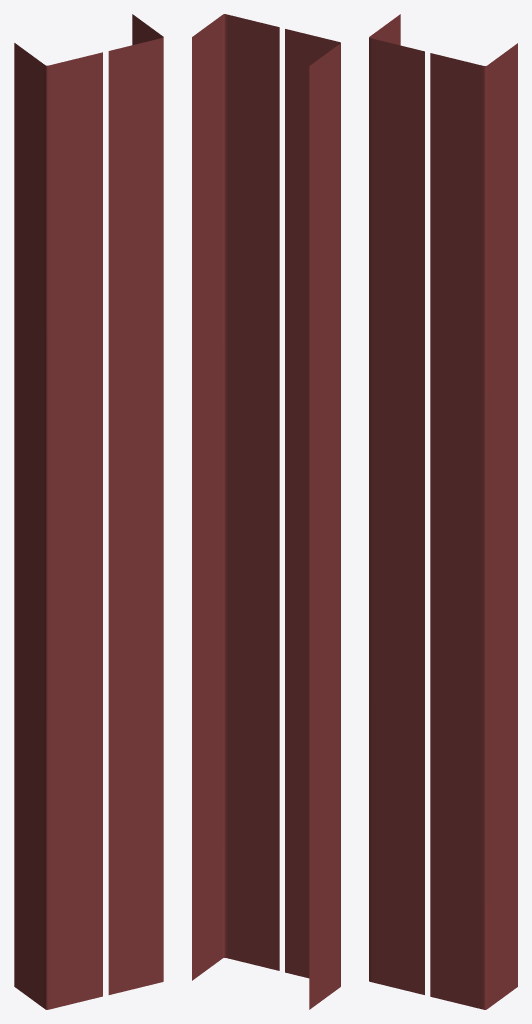
The model's file is Decal_wallIn_C_columnhalf_small.FBX.
3 views of the same model, side by side, from view 1: azimuth 30°, elevation 25°; view 2: azimuth 150°, elevation 25°; view 3: azimuth 330°, elevation 25° (orthographic).
Visible parts, largest first — view 1: Decal_wallIn_C_columnhalf_small; view 2: Decal_wallIn_C_columnhalf_small; view 3: Decal_wallIn_C_columnhalf_small.
Boxes of the visible parts, <box> form: Decal_wallIn_C_columnhalf_small: <box>14,14,163,1009</box>; Decal_wallIn_C_columnhalf_small: <box>192,14,340,1009</box>; Decal_wallIn_C_columnhalf_small: <box>369,14,517,1009</box>.
Size of the model in its own units: 35.54 by 272 by 16.96.
